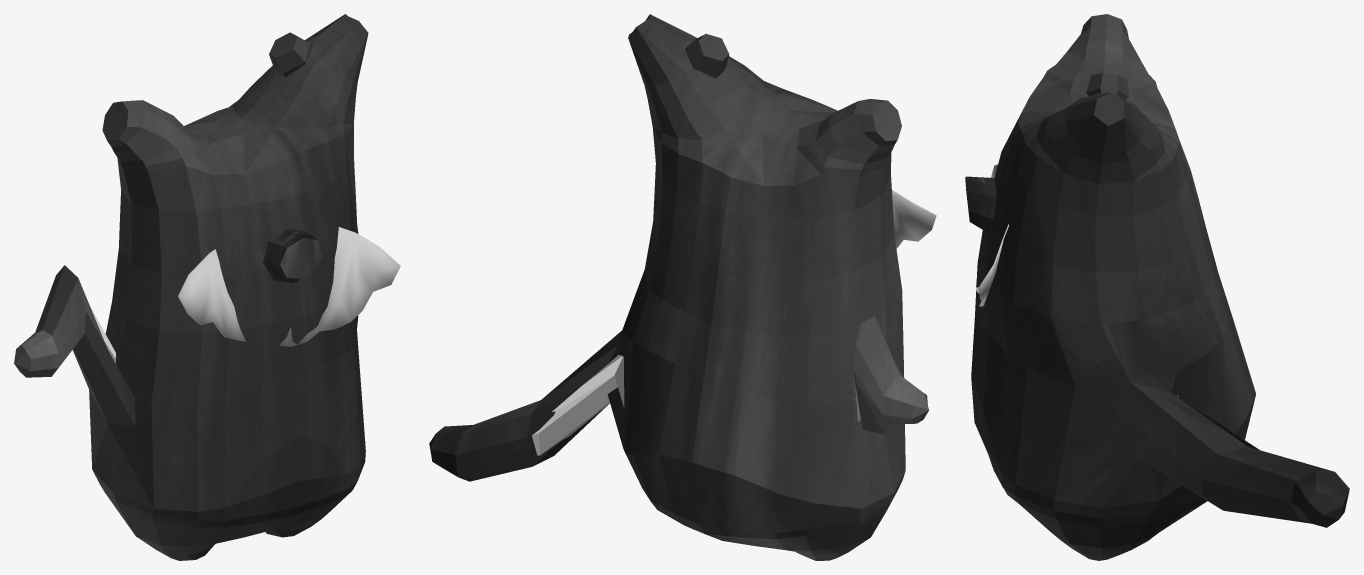
Rendered from frame_0076.obj.
The picture shows the model from 3 angles, left to right: view 1: azimuth 30°, elevation 25°; view 2: azimuth 150°, elevation 25°; view 3: azimuth 270°, elevation 25°; orthographic projection.
Parts seen in each view (by area): view 1: korok, leaf, nose; view 2: korok, leaf; view 3: korok, nose, leaf.
Boxes of the visible parts, box(x1,y1,x2,y2) form: korok: box(14, 14, 368, 560); leaf: box(177, 227, 400, 346); nose: box(263, 229, 323, 283); korok: box(429, 14, 928, 560); leaf: box(892, 190, 936, 248); korok: box(971, 14, 1349, 560); nose: box(965, 176, 996, 232); leaf: box(975, 164, 1009, 306).
Bounding box in the file's own units: 1.96 × 2.25 × 1.58.
